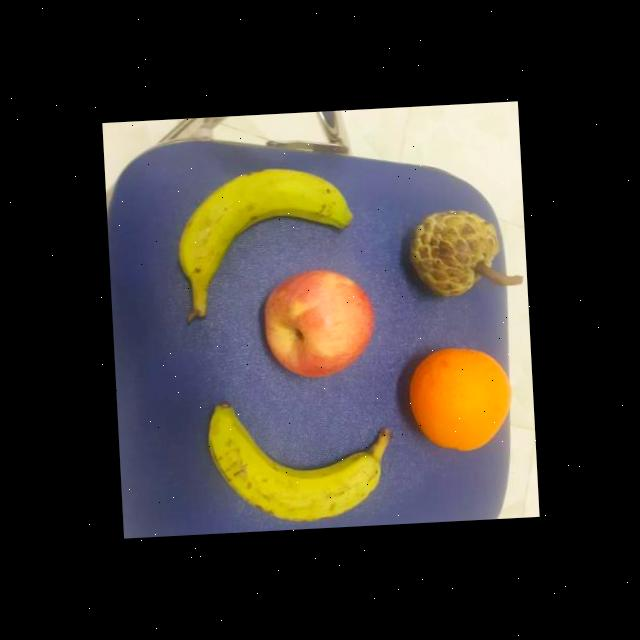Sakya fruit: (406, 205, 502, 296)
apple: (258, 266, 377, 381)
banana: (174, 164, 358, 322), (204, 391, 396, 532)
orange: (396, 344, 516, 457)
